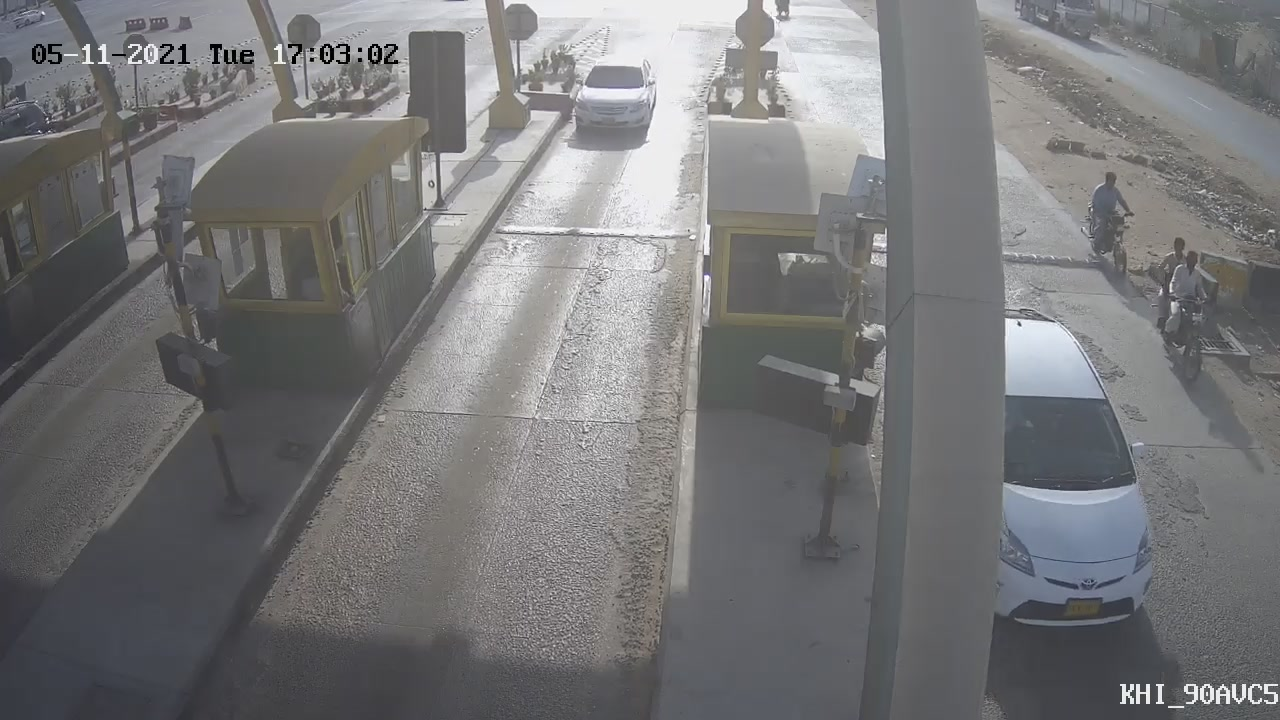F1: (547, 43, 676, 155)
